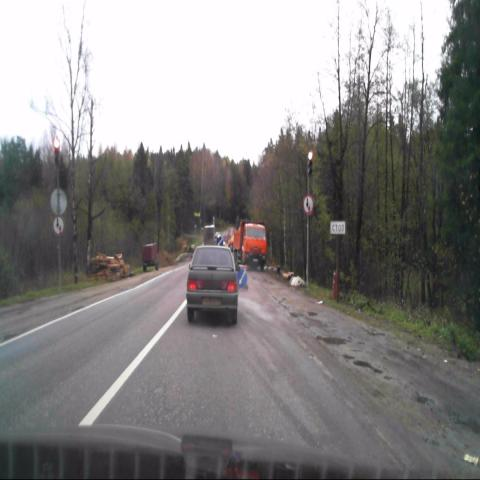2_6: (52, 214, 65, 235), (302, 194, 314, 215)
